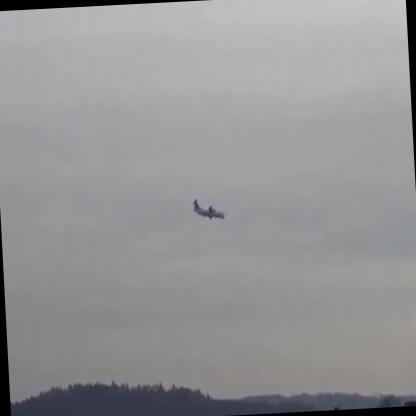plane: (191, 198, 227, 223)
